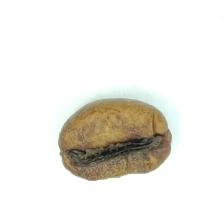NG: (67, 132, 161, 180)
